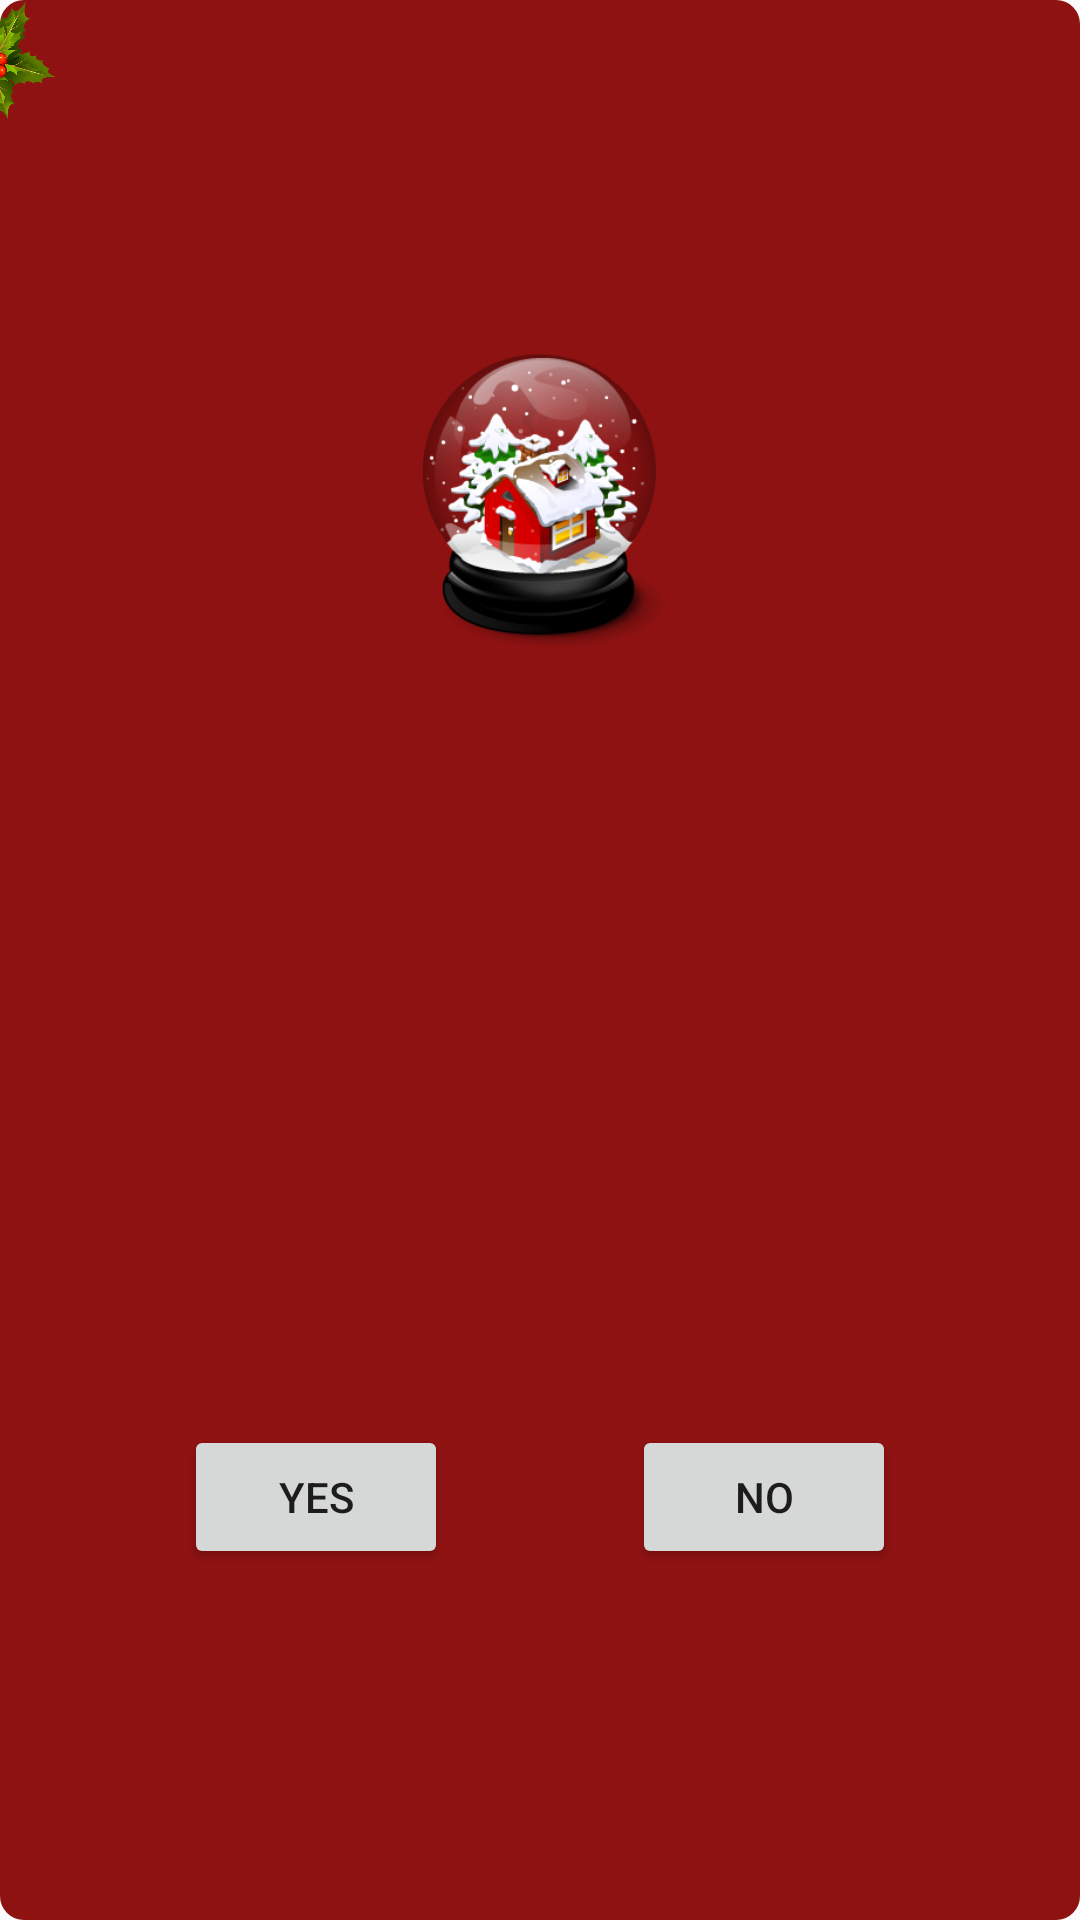

Screen size 1080*1920. Icon name, then its box in pixels as BBox(x1, y1, x2, y2):
christmas house: BBox(423, 355, 656, 640)
